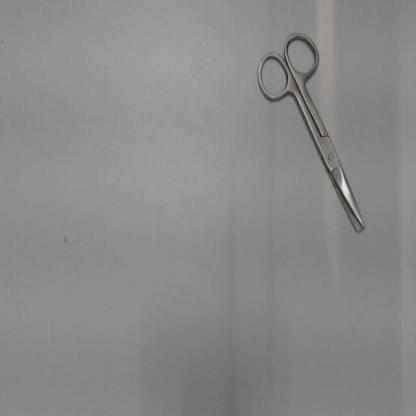Dressing Scissors: (248, 21, 373, 243)
